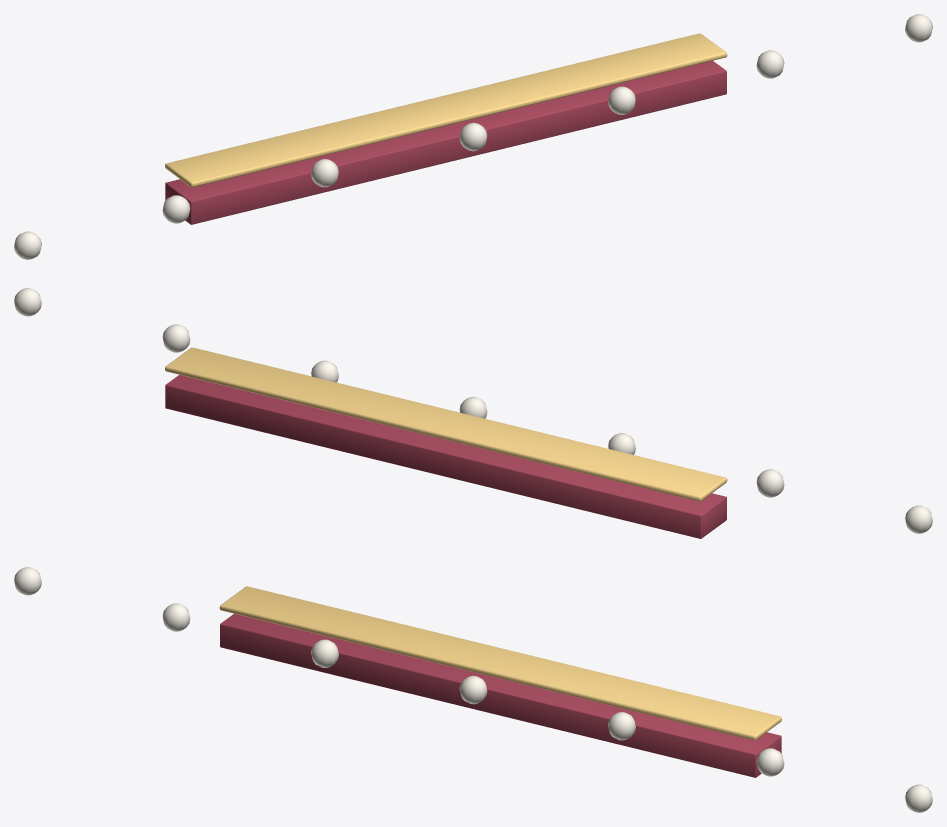
File: opera_stage_apron.glb
3 renders of one model, top to bottom at view 1: azimuth 30°, elevation 25°; view 2: azimuth 150°, elevation 25°; view 3: azimuth 330°, elevation 25°, orthographic.
Visible parts, largest first — view 1: apron, trim, footlight.001, footlight.005, footlight.002, footlight.004, footlight, footlight.006, footlight.003; view 2: apron, trim, footlight.001, footlight.005, footlight, footlight.006; view 3: apron, trim, footlight.001, footlight.005, footlight.002, footlight.004, footlight, footlight.006, footlight.003.
Boxes of the visible parts, left/top/right/bottom form: apron: left=165, top=60, right=726, bottom=224; trim: left=165, top=33, right=727, bottom=187; footlight.001: left=162, top=195, right=190, bottom=223; footlight.005: left=756, top=50, right=784, bottom=78; footlight.002: left=311, top=159, right=338, bottom=187; footlight.004: left=608, top=86, right=635, bottom=114; footlight: left=14, top=231, right=41, bottom=259; footlight.006: left=905, top=14, right=932, bottom=42; footlight.003: left=459, top=122, right=487, bottom=151; apron: left=165, top=375, right=726, bottom=538; trim: left=165, top=347, right=727, bottom=501; footlight.001: left=756, top=469, right=784, bottom=497; footlight.005: left=162, top=324, right=190, bottom=352; footlight: left=905, top=505, right=932, bottom=533; footlight.006: left=14, top=288, right=41, bottom=316; apron: left=220, top=613, right=781, bottom=777; trim: left=219, top=586, right=781, bottom=740; footlight.001: left=162, top=603, right=190, bottom=631; footlight.005: left=756, top=748, right=784, bottom=776; footlight.002: left=311, top=639, right=338, bottom=667; footlight.004: left=608, top=712, right=635, bottom=740; footlight: left=14, top=567, right=41, bottom=595; footlight.006: left=905, top=784, right=932, bottom=812; footlight.003: left=459, top=675, right=487, bottom=704.
Bounding box in the file's own units: 22.17 × 1.07 × 2.02.
